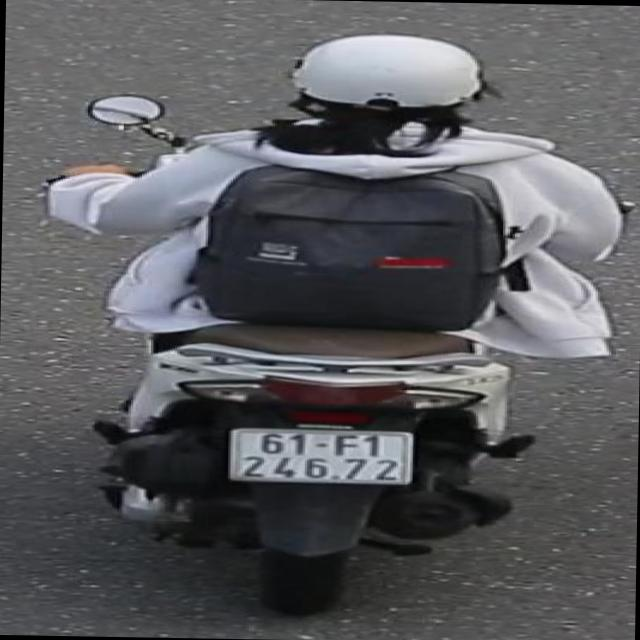LP: (220, 423, 420, 489)
helmet: (266, 27, 508, 156)
